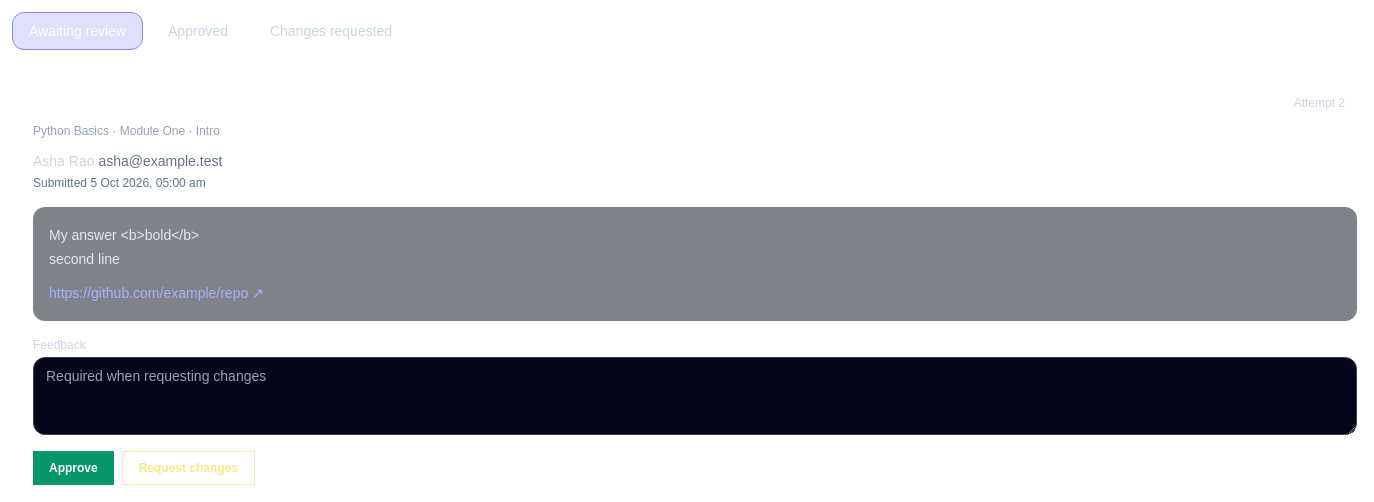
Scenario: ReviewQueue › switches tabs, and offers no actions on reviewed submissions
Step 1. Click the button "Approved" → [198, 31], box top-left (151, 12), bottom-right (245, 50)
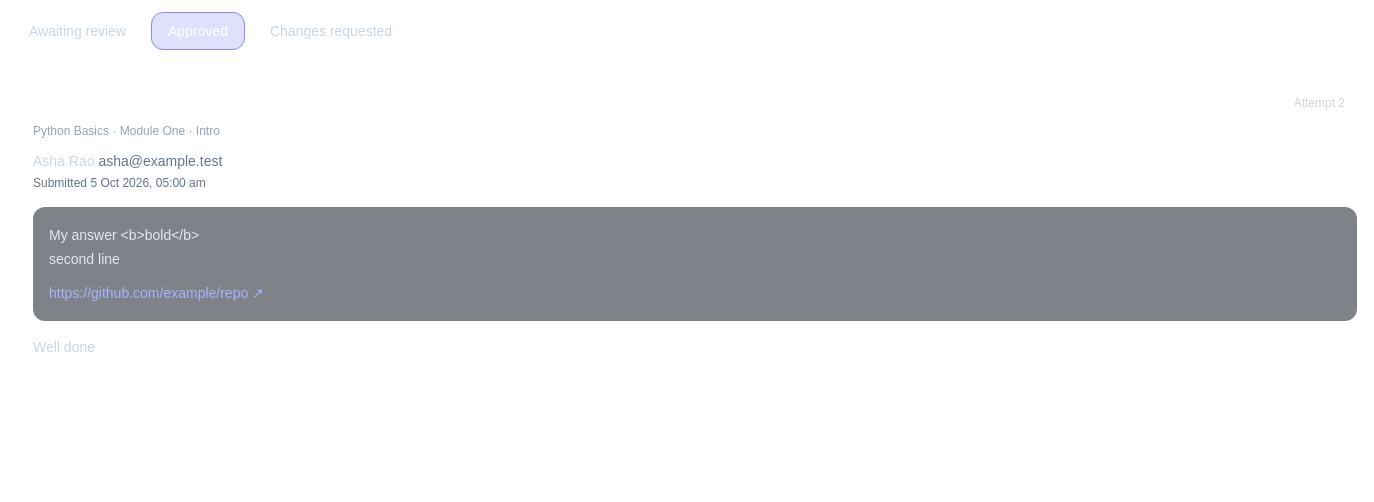
Expected: the text "Well done" is shown, top-left (33, 339), bottom-right (95, 355)
Expected: the button "approve " is gone
